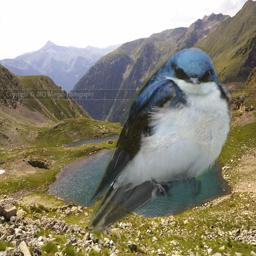Swallow: (82, 45, 235, 235)
